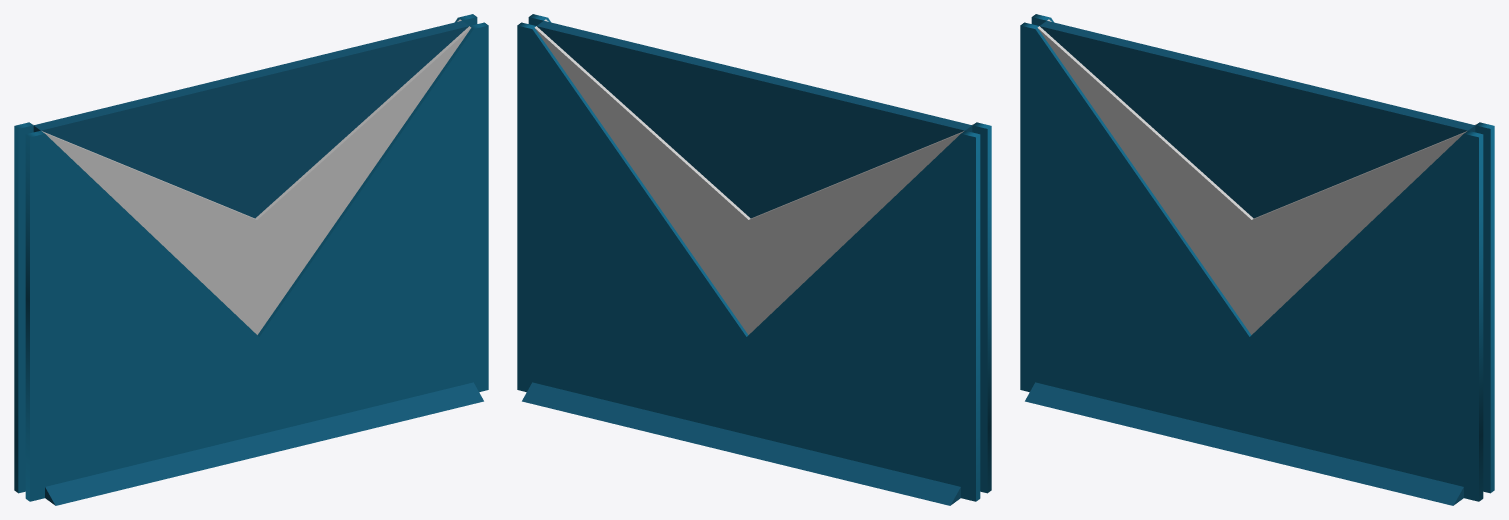
The model's file is blue_door_wide.fbx.
The picture shows the model from 3 angles, left to right: view 1: azimuth 30°, elevation 25°; view 2: azimuth 150°, elevation 25°; view 3: azimuth 330°, elevation 25°; orthographic projection.
Visible parts, largest first — view 1: BlueDoorWide; view 2: BlueDoorWide; view 3: BlueDoorWide.
Part boxes in pixels (left/top/right/bottom): BlueDoorWide: left=14, top=14, right=488, bottom=505; BlueDoorWide: left=517, top=14, right=991, bottom=505; BlueDoorWide: left=1020, top=14, right=1494, bottom=505.
Bounding box in the file's own units: 396 × 300 × 55.46.
